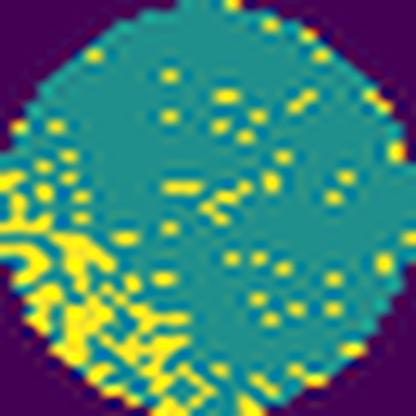Edge-Loc: (50, 292, 112, 365), (0, 239, 62, 294), (24, 279, 69, 337)
